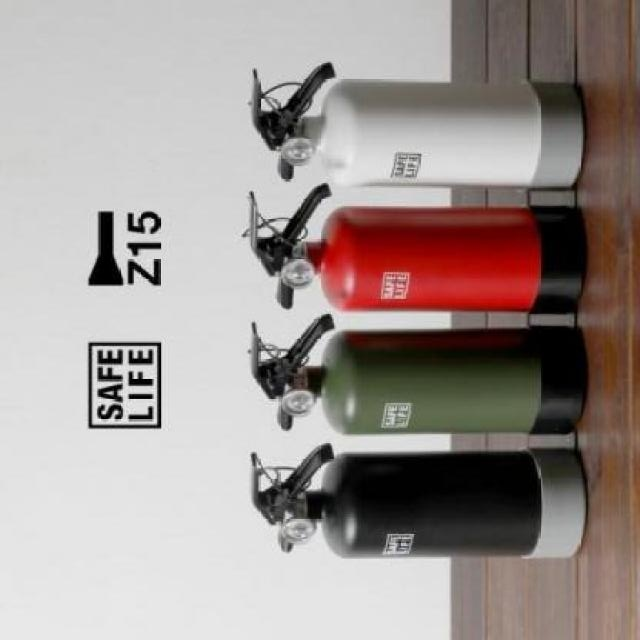fire extinguisher: (249, 61, 585, 193), (247, 183, 585, 314), (248, 312, 588, 436), (249, 442, 588, 561)
